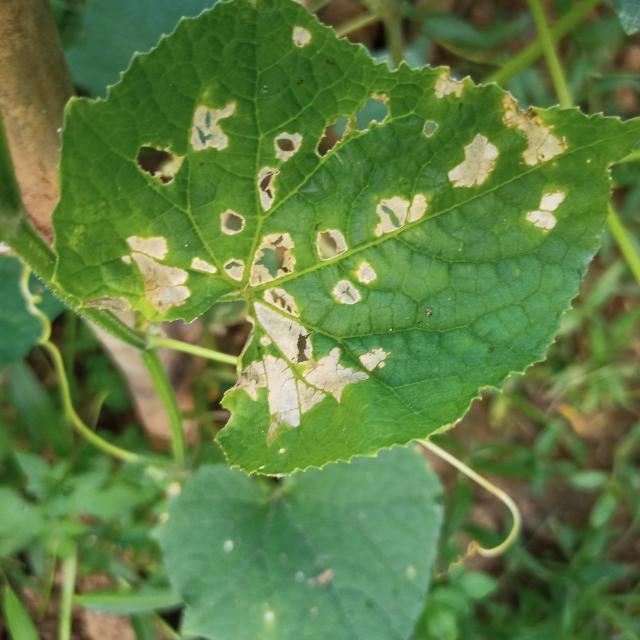disease_cucumber: (117, 95, 399, 440), (373, 46, 578, 248), (282, 25, 322, 56)
